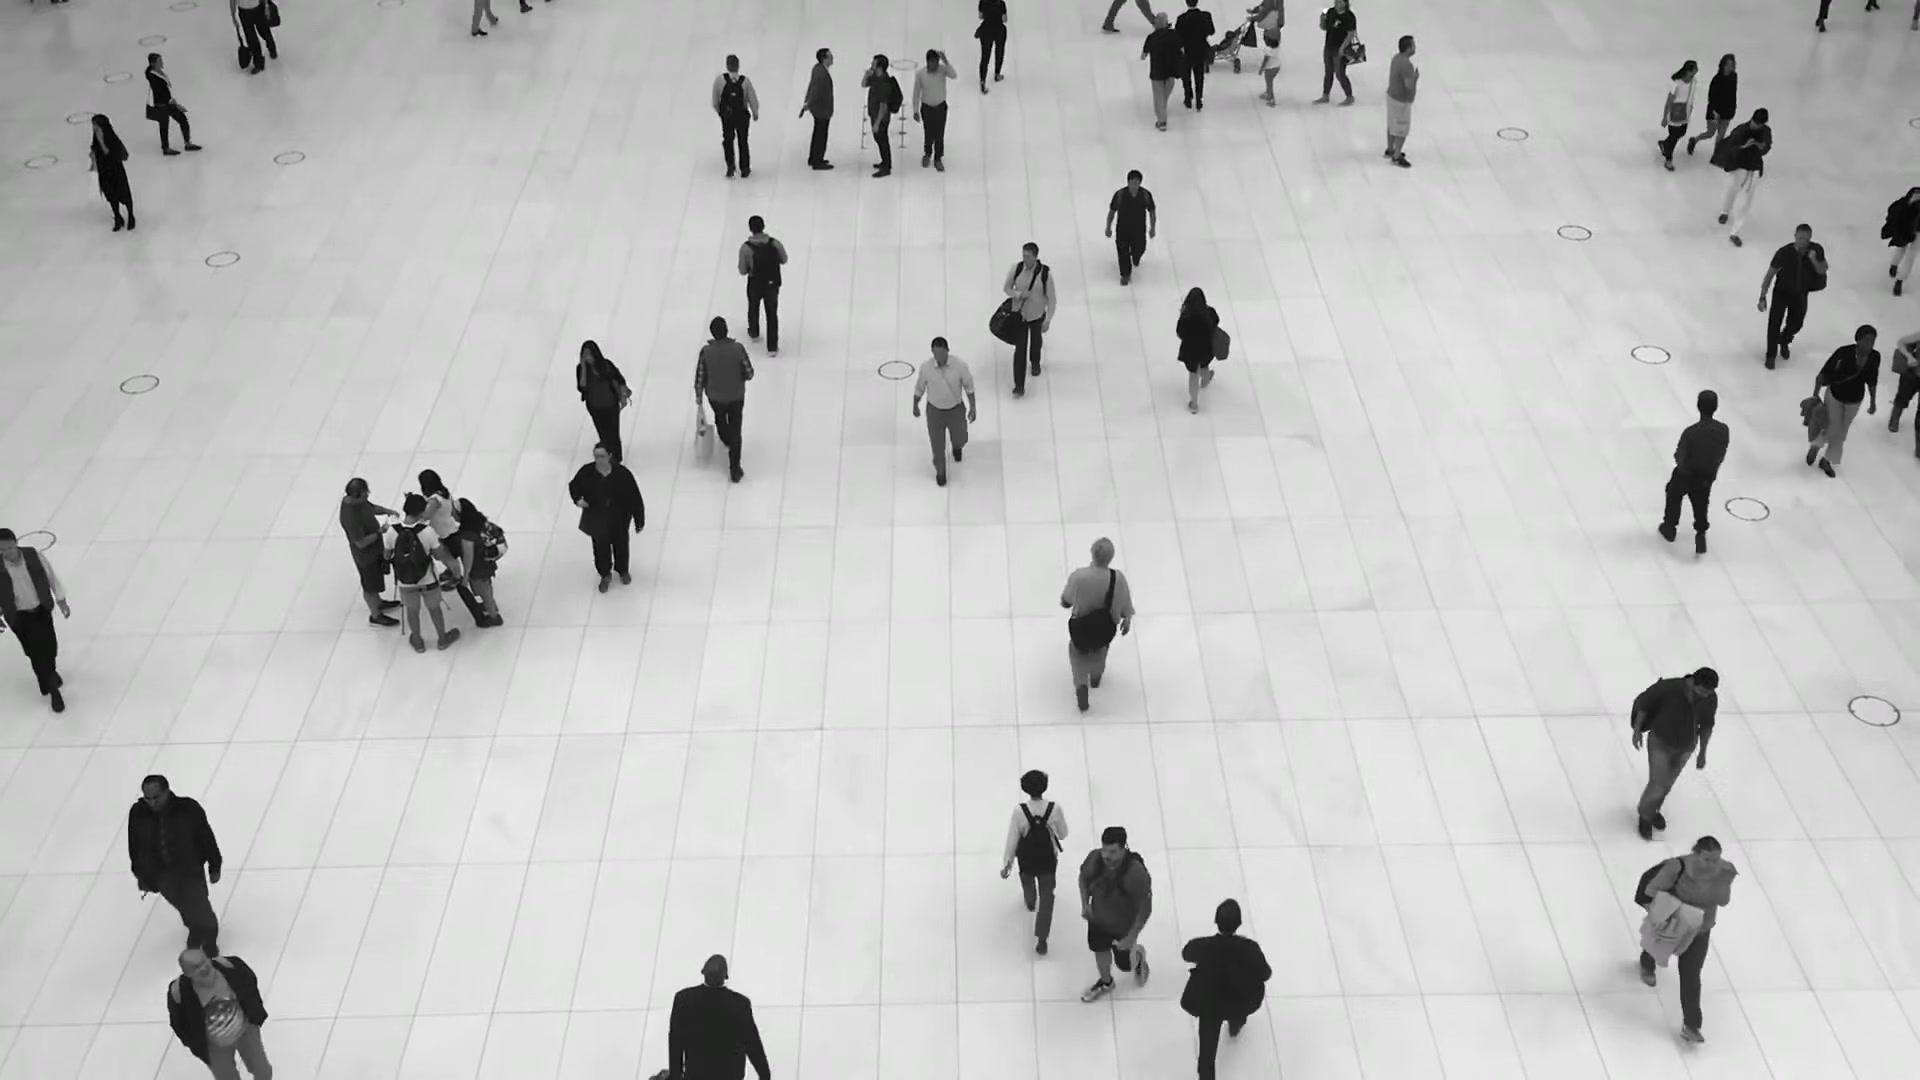person: (132, 779, 229, 976), (1622, 669, 1717, 846), (1179, 893, 1274, 1070), (1641, 836, 1735, 1009), (1075, 824, 1156, 1004), (1055, 538, 1135, 714), (169, 946, 272, 1079), (1658, 390, 1737, 563), (565, 444, 649, 600), (0, 528, 71, 711), (662, 954, 765, 1079), (1802, 327, 1879, 492), (384, 494, 460, 652), (1006, 768, 1071, 943), (1756, 228, 1828, 380), (917, 337, 980, 489), (339, 477, 402, 629), (693, 313, 752, 473), (1712, 105, 1772, 245), (1001, 241, 1056, 391), (737, 216, 790, 359), (451, 497, 503, 627), (705, 57, 756, 187), (1105, 170, 1159, 289), (575, 341, 633, 451), (145, 53, 205, 156), (1170, 286, 1220, 408), (88, 114, 136, 232), (911, 51, 955, 180), (1655, 60, 1702, 174), (1139, 11, 1185, 127), (1688, 54, 1736, 165), (860, 55, 902, 180), (417, 469, 459, 592), (1311, 0, 1357, 108), (1383, 34, 1420, 168), (1175, 0, 1215, 118), (799, 48, 835, 172), (974, 0, 1008, 95), (1246, 0, 1284, 72), (1256, 36, 1281, 105)
